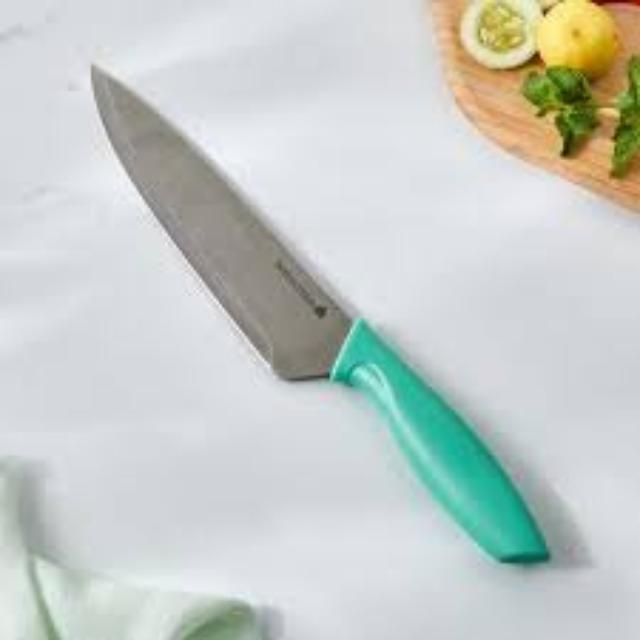Knife: (89, 57, 549, 563)
